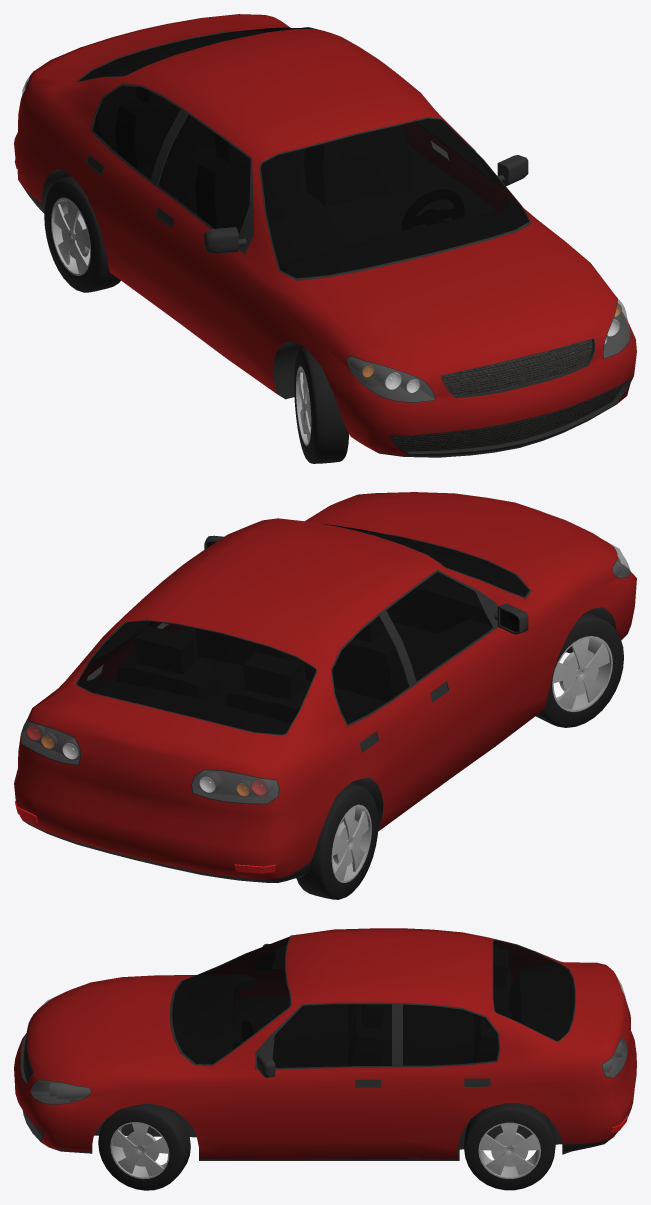
The model's file is saloon.glb.
3 views of the same model, one above another, from view 1: azimuth 30°, elevation 25°; view 2: azimuth 150°, elevation 25°; view 3: azimuth 270°, elevation 25° (orthographic). The views are drawn at different scales.
Visible parts, largest first — view 1: CarBody_CarPaint_0, CarBody_Plastic_0, CarBody_Glass_0, CarBody_Grill_0, WheelFR_Rubber_0, WheelRR_Rubber_0, CarBody_LightGlass_0, WheelRR_Rim_0, SteeringWheel_Plastic.001_0, WheelFR_Rim_0; view 2: CarBody_CarPaint_0, CarBody_Plastic_0, CarBody_Glass_0, CarBody_LightGlass_0, WheelRR_Rubber_0, WheelFR_Rim_0, WheelFR_Rubber_0, WheelRR_Rim_0, CarBody_LightR_0; view 3: CarBody_CarPaint_0, CarBody_Plastic_0, CarBody_Glass_0, WheelRL_Rubber_0, WheelFL_Rubber_0, WheelRL_Rim_0, WheelFL_Rim_0, CarBody_LightGlass_0.
Boxes of the visible parts, x1,y1,x2,y2 form: CarBody_CarPaint_0: (14, 14, 636, 455); CarBody_Plastic_0: (21, 27, 633, 457); CarBody_Glass_0: (78, 27, 529, 278); CarBody_Grill_0: (391, 340, 624, 451); WheelFR_Rubber_0: (294, 347, 348, 463); WheelRR_Rubber_0: (44, 176, 120, 292); CarBody_LightGlass_0: (21, 76, 630, 402); WheelRR_Rim_0: (51, 197, 90, 275); SteeringWheel_Plastic.001_0: (402, 189, 463, 230); WheelFR_Rim_0: (296, 366, 311, 445); CarBody_CarPaint_0: (14, 492, 636, 879); CarBody_Plastic_0: (21, 527, 630, 882); CarBody_Glass_0: (77, 523, 529, 734); CarBody_LightGlass_0: (21, 543, 630, 803); WheelRR_Rubber_0: (296, 783, 378, 899); WheelFR_Rim_0: (552, 636, 612, 712); WheelFR_Rubber_0: (536, 611, 623, 727); WheelRR_Rim_0: (331, 804, 371, 882); CarBody_LightR_0: (15, 725, 275, 873); CarBody_CarPaint_0: (14, 928, 636, 1158); CarBody_Plastic_0: (18, 928, 627, 1160); CarBody_Glass_0: (172, 936, 574, 1067); WheelRL_Rubber_0: (464, 1103, 555, 1190); WheelFL_Rubber_0: (98, 1103, 190, 1190); WheelRL_Rim_0: (478, 1122, 540, 1178); WheelFL_Rim_0: (110, 1122, 169, 1179); CarBody_LightGlass_0: (30, 976, 627, 1104).
Bounding box in the file's own units: 2.23 × 1.55 × 4.8.
Materials: 11 (1 with a texture image).
